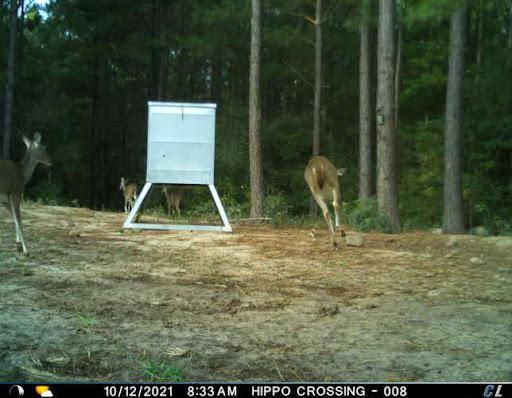Deer: (0, 131, 56, 256), (299, 150, 347, 245), (113, 165, 141, 215), (155, 184, 192, 220)
